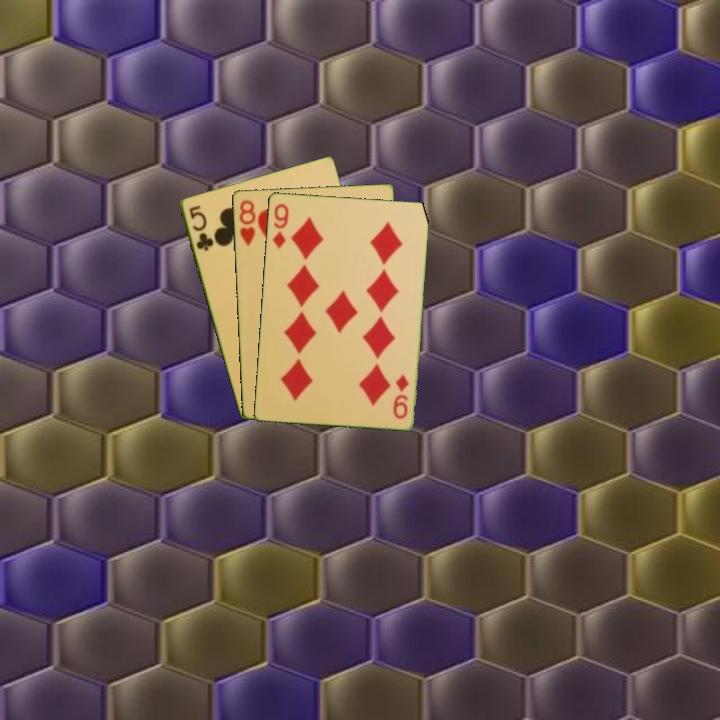5c: (185, 202, 216, 254)
8h: (236, 197, 258, 248)
9d: (268, 200, 291, 252), (389, 370, 411, 421)
